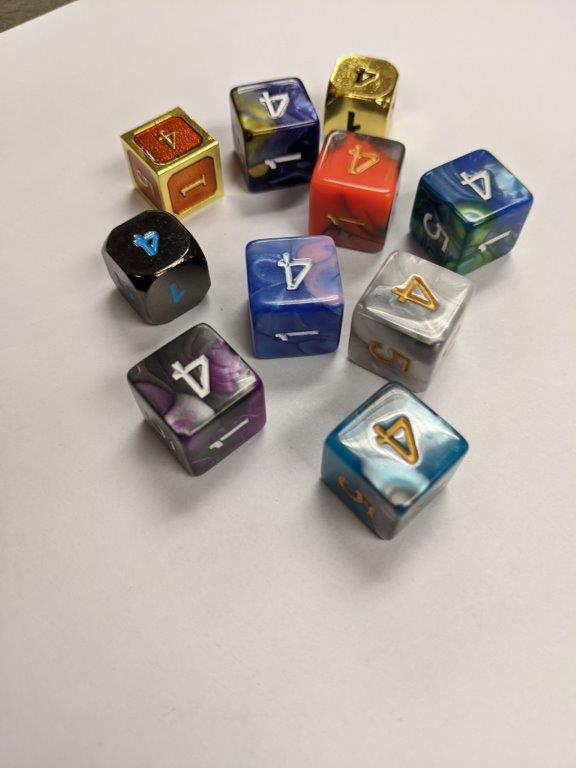d6-4: (320, 381, 471, 543), (129, 319, 269, 477), (350, 248, 472, 390), (412, 145, 535, 277), (242, 236, 351, 367), (99, 208, 214, 325), (306, 130, 405, 256), (120, 107, 226, 215), (229, 75, 320, 195), (320, 54, 401, 140)
